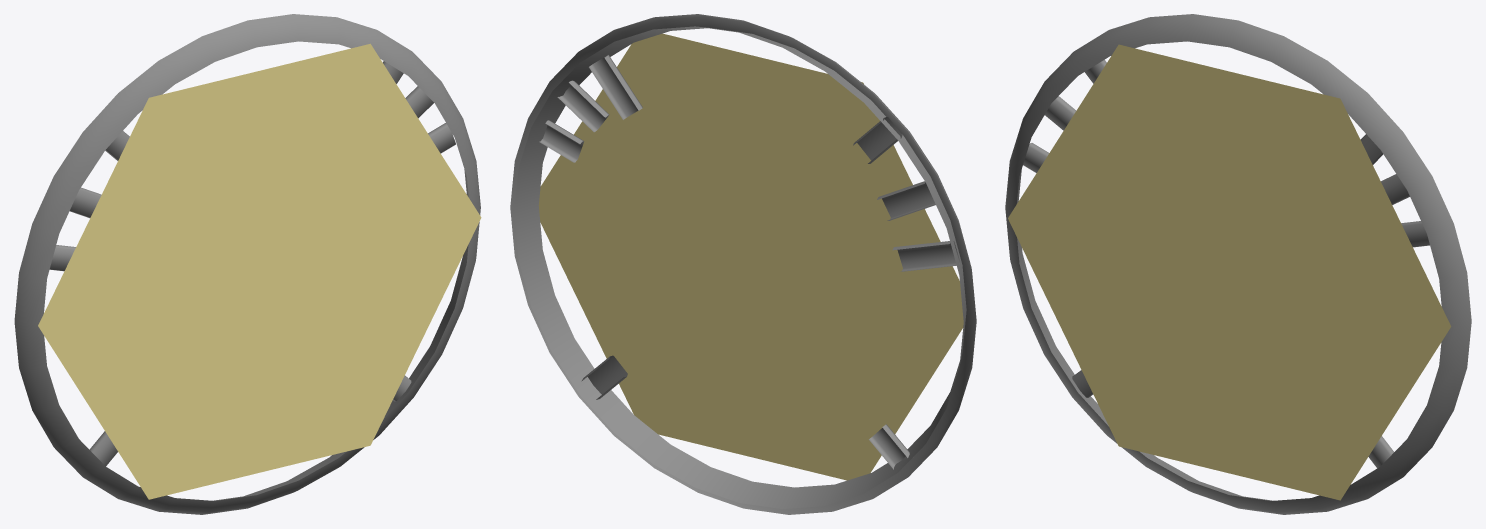
File: Post-It.fbx
3 renders of one model, left to right at view 1: azimuth 30°, elevation 25°; view 2: azimuth 150°, elevation 25°; view 3: azimuth 330°, elevation 25°, orthographic.
Parts seen in each view (by area): view 1: Post-it; view 2: Post-it; view 3: Post-it.
Boxes of the visible parts, x1,y1,x2,y2 form: Post-it: [14, 14, 481, 514]; Post-it: [510, 14, 976, 514]; Post-it: [1005, 14, 1471, 514].
Size of the model in its own units: 91.61 by 91.61 by 5.09.
